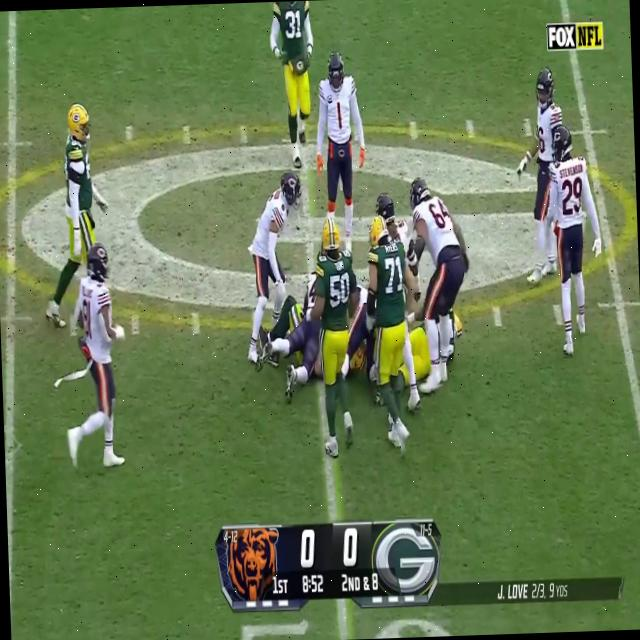Player: (69, 245, 127, 478), (408, 178, 468, 392), (364, 220, 416, 466), (546, 126, 597, 362), (312, 218, 361, 456), (246, 172, 307, 358), (268, 0, 318, 174), (52, 98, 98, 266), (316, 51, 358, 219), (530, 65, 560, 282)
